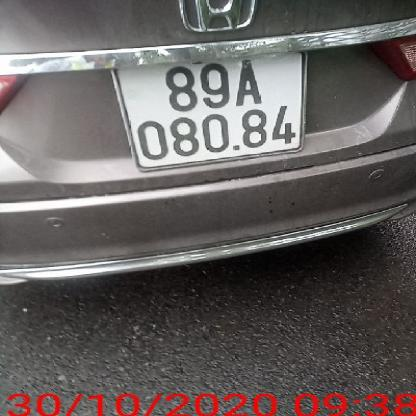biensoxe: (106, 46, 303, 170)
